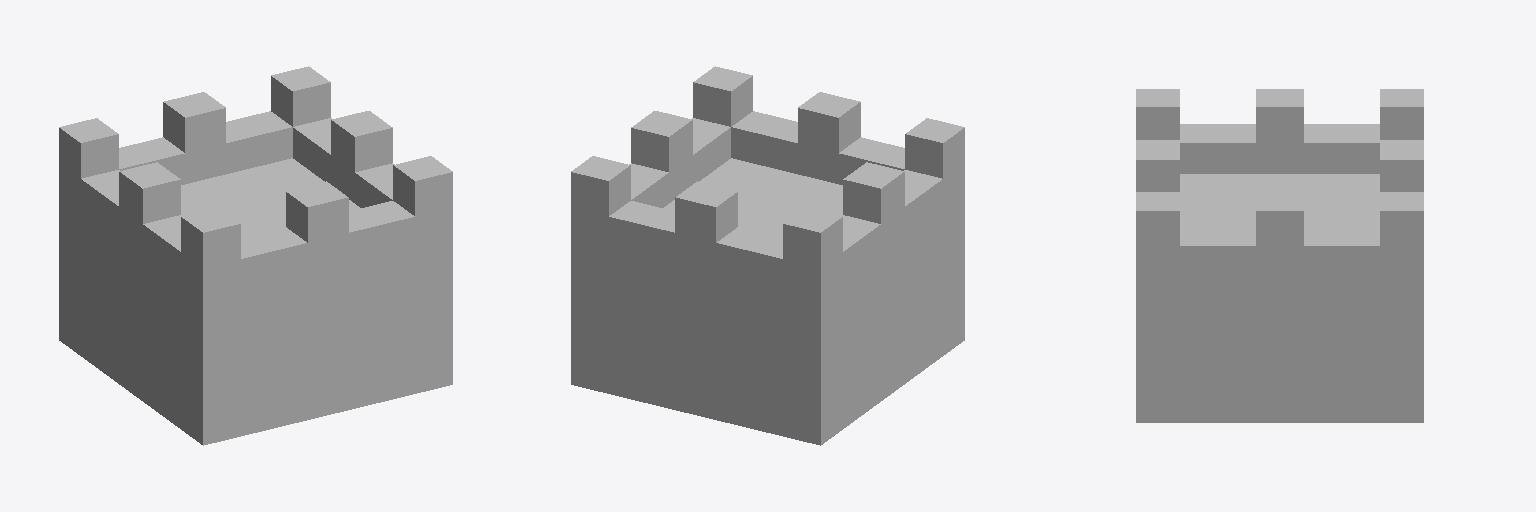
Rendered from tile_024.obj.
3 renders of one model, left to right at view 1: azimuth 30°, elevation 25°; view 2: azimuth 150°, elevation 25°; view 3: azimuth 270°, elevation 25°, orthographic.
Visible parts, largest first — view 1: tile_024; view 2: tile_024; view 3: tile_024.
Part boxes in pixels (left/top/right/bottom): tile_024: left=59, top=66, right=452, bottom=445; tile_024: left=571, top=66, right=964, bottom=445; tile_024: left=1136, top=89, right=1423, bottom=422.
Size of the model in its own units: 0.5901 by 0.48 by 0.5901.